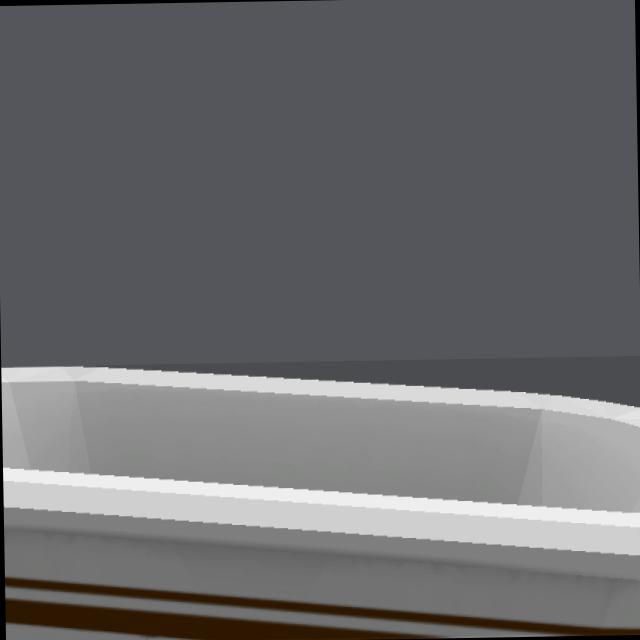bathtube: (1, 366, 640, 640)
